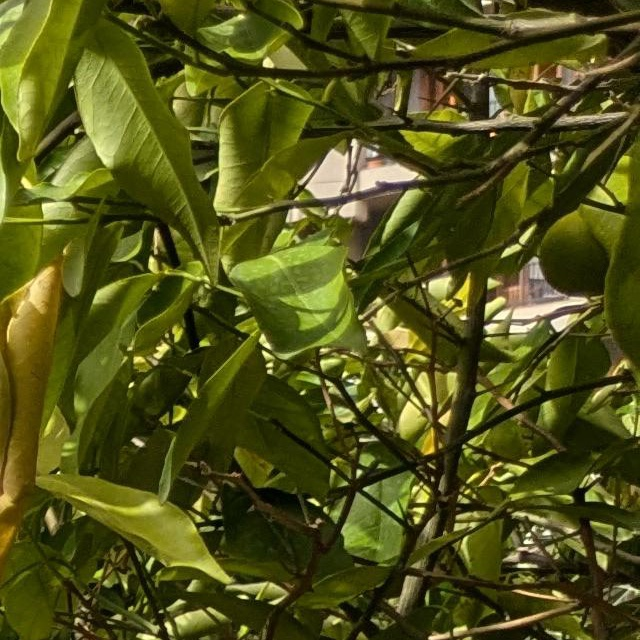orange: (538, 196, 626, 292)
